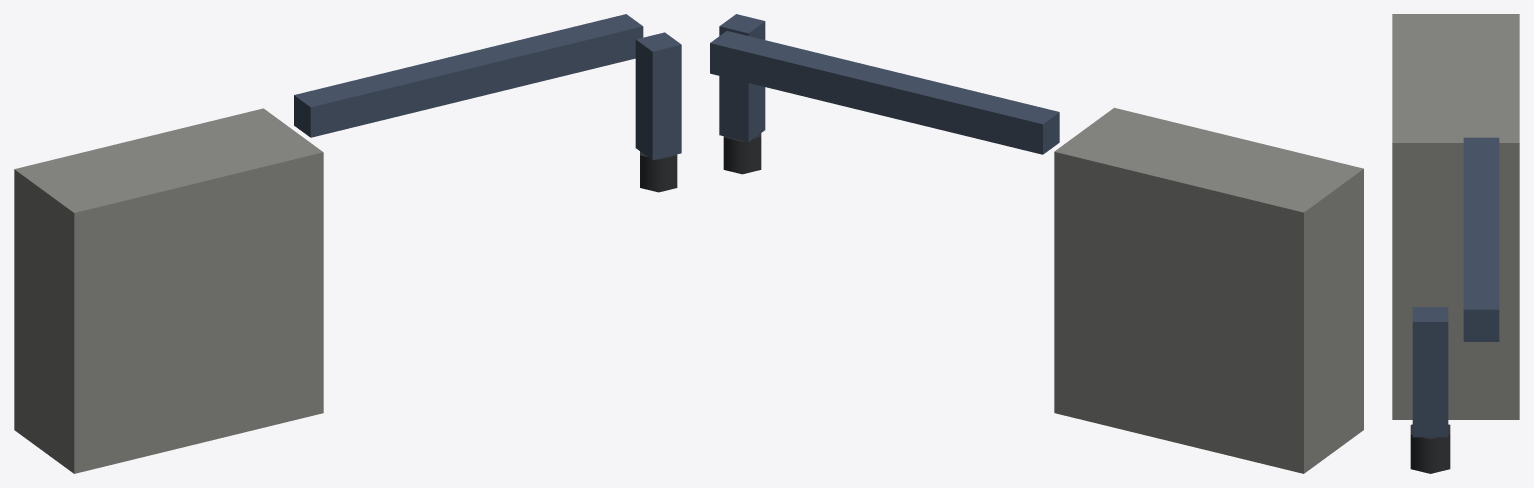
Rendered from ak1_charger.obj.
3 views of the same model, side by side, from view 1: azimuth 30°, elevation 25°; view 2: azimuth 150°, elevation 25°; view 3: azimuth 270°, elevation 25° (orthographic). The views are drawn at different scales.
Parts seen in each view (by area): view 1: ak1_charger; view 2: ak1_charger; view 3: ak1_charger.
Boxes of the visible parts, left/top/right/bottom form: ak1_charger: left=14, top=14, right=681, bottom=473; ak1_charger: left=710, top=14, right=1363, bottom=473; ak1_charger: left=1392, top=14, right=1519, bottom=473.
Size of the model in its own units: 2.99 by 1.27 by 0.5.
